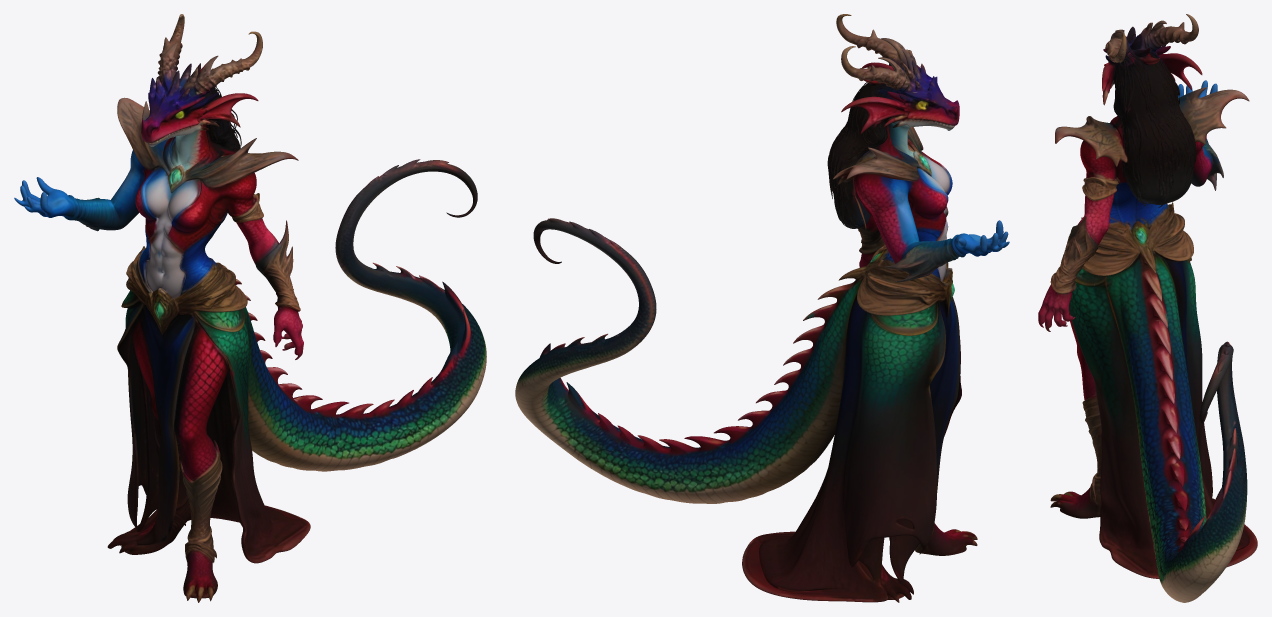
The model's file is dragonborn_sorcerer_full_Female_01.glb.
3 views of the same model, side by side, from view 1: azimuth 30°, elevation 25°; view 2: azimuth 150°, elevation 25°; view 3: azimuth 270°, elevation 25° (orthographic). The views are drawn at different scales.
Visible parts, largest first — view 1: material; view 2: material; view 3: material.
Part boxes in pixels (box(x1,y1,x2,y2)): material: box(14, 14, 486, 602); material: box(515, 14, 1009, 602); material: box(1038, 14, 1257, 602).
Bounding box in the file's own units: 0.9643 × 1.03 × 0.3979.
1 material, 1 textured.
